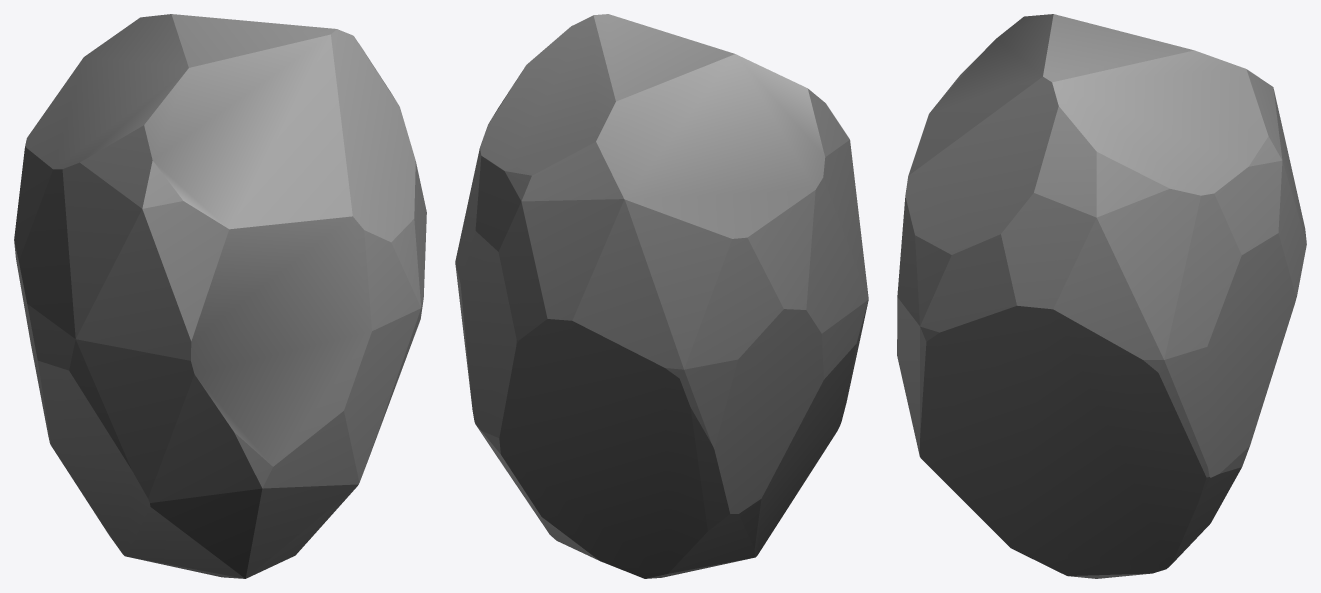
Rendered from rock2-col.glb.
3 views of the same model, side by side, from view 1: azimuth 30°, elevation 25°; view 2: azimuth 150°, elevation 25°; view 3: azimuth 270°, elevation 25° (orthographic). The views are drawn at different scales.
Parts seen in each view (by area): view 1: Icosphere; view 2: Icosphere; view 3: Icosphere.
Boxes of the visible parts, box(x1,y1,x2,y2) form: Icosphere: box(14, 14, 426, 578); Icosphere: box(455, 14, 868, 578); Icosphere: box(897, 14, 1306, 578).
Size of the model in its own units: 1.9 by 2.74 by 1.88.
Materials: 1 (1 with a texture image).
